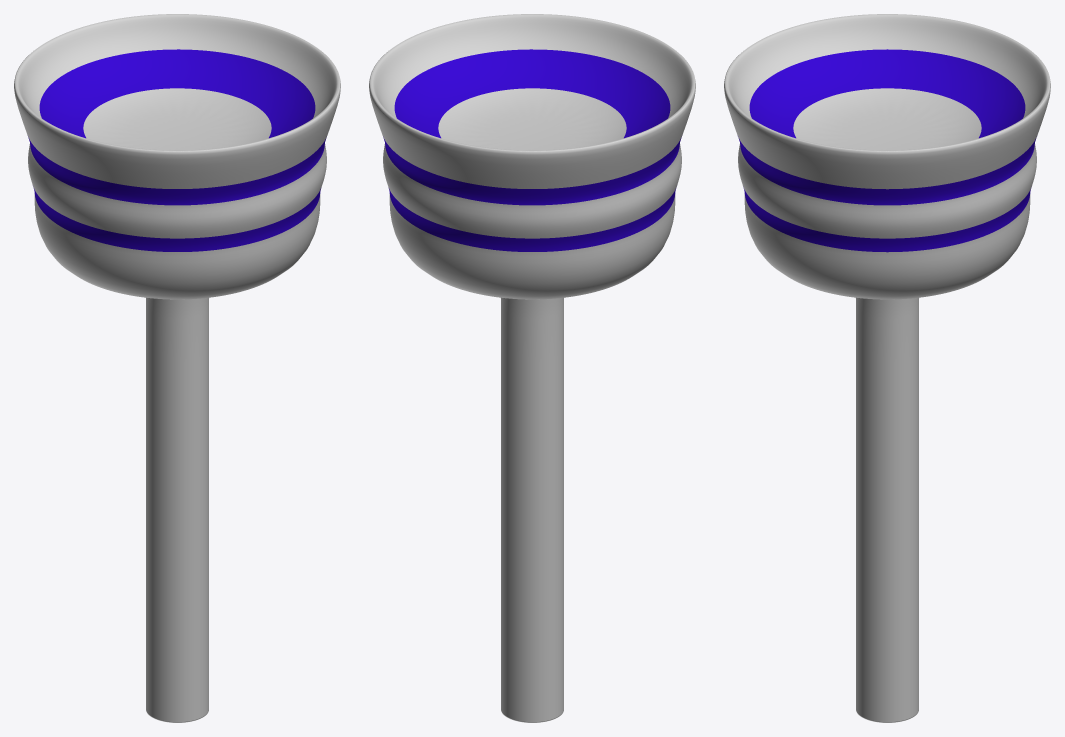
The model's file is RegenPlatform.fbx.
The picture shows the model from 3 angles, left to right: view 1: azimuth 30°, elevation 25°; view 2: azimuth 150°, elevation 25°; view 3: azimuth 270°, elevation 25°; orthographic projection.
Parts seen in each view (by area): view 1: Cylinder; view 2: Cylinder; view 3: Cylinder.
Part boxes in pixels (<box>): Cylinder: <box>14,14,340,722</box>; Cylinder: <box>369,14,695,722</box>; Cylinder: <box>724,14,1050,722</box>.
Size of the model in its own units: 71.55 by 71.55 by 151.
